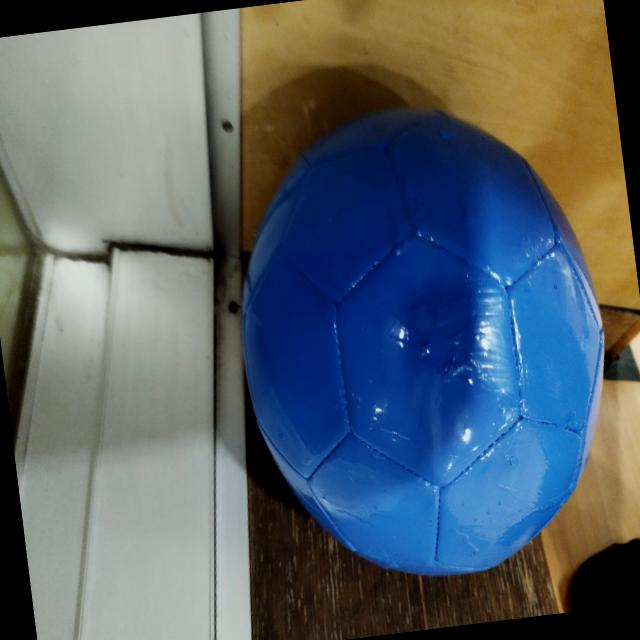blue_ball: (212, 80, 630, 593)
